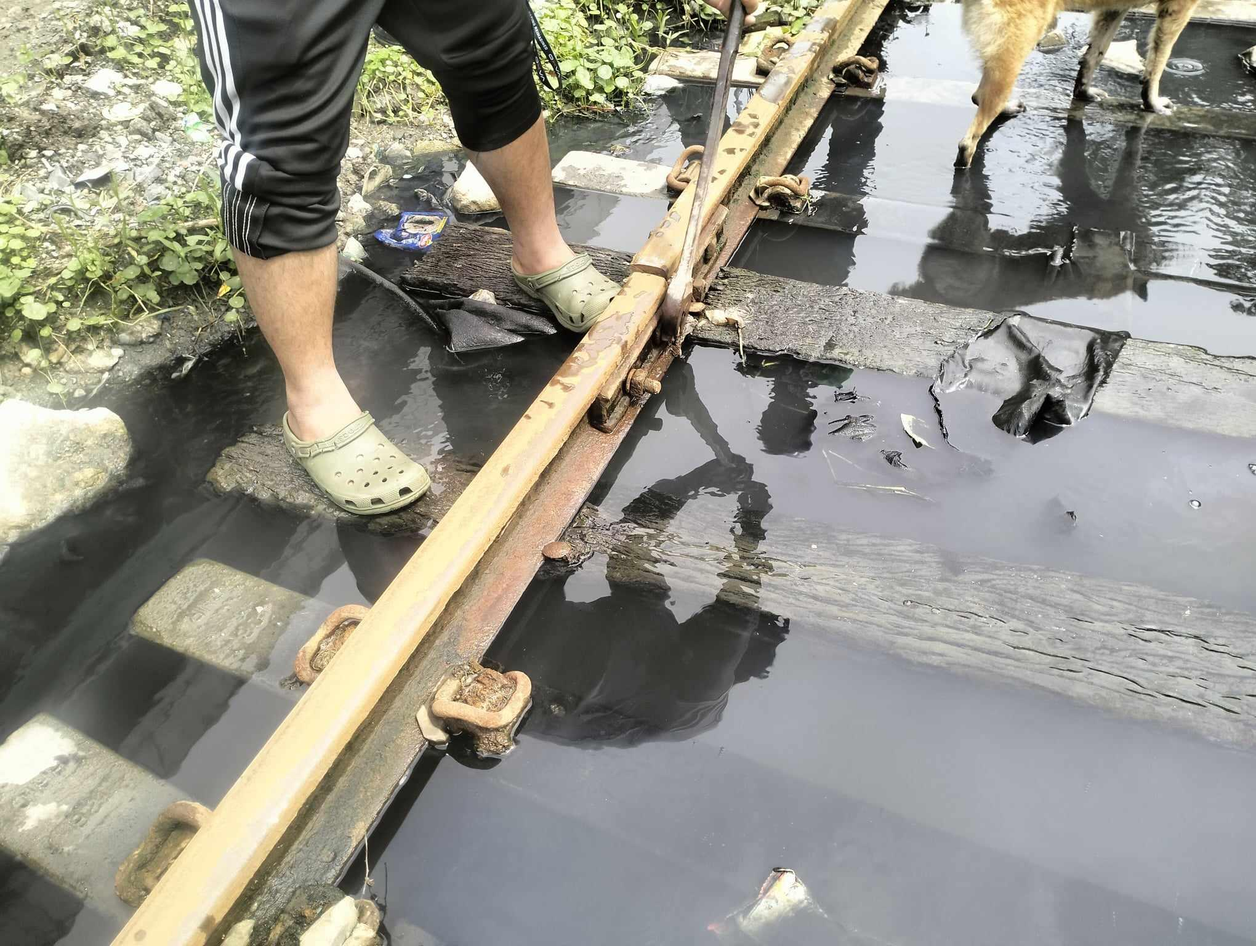railway-gap: (612, 234, 683, 307)
